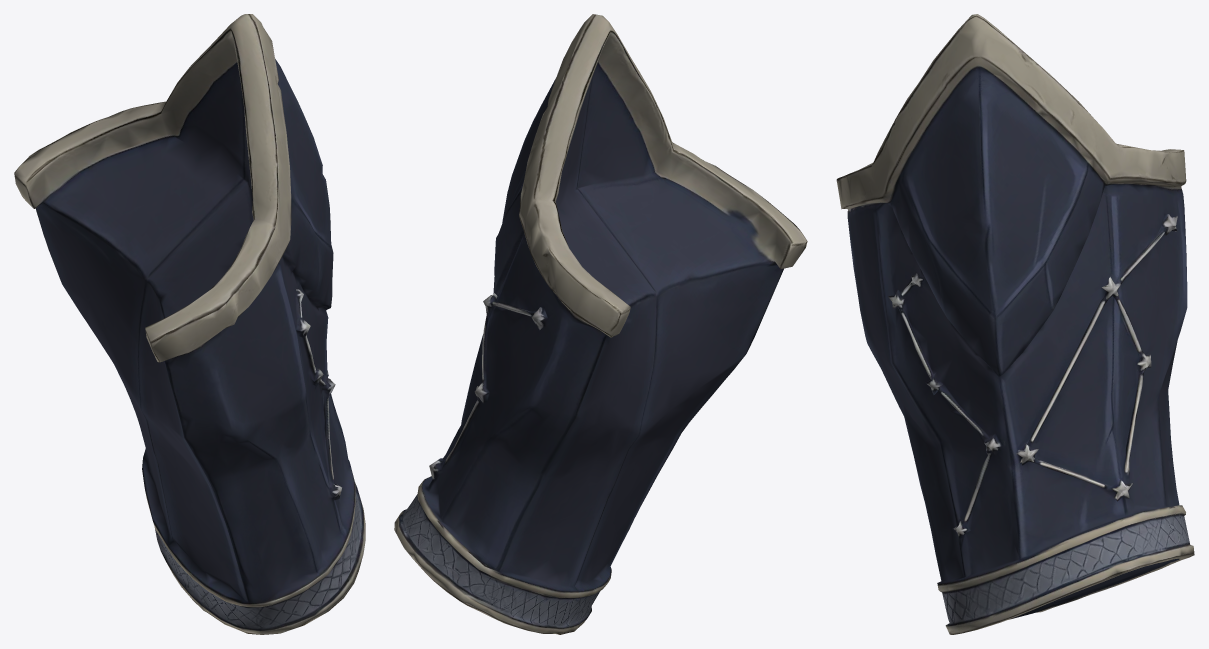
Rendered from boss_arm.glb.
3 views of the same model, side by side, from view 1: azimuth 30°, elevation 25°; view 2: azimuth 150°, elevation 25°; view 3: azimuth 270°, elevation 25° (orthographic). The views are drawn at different scales.
Parts seen in each view (by area): view 1: tripo_node_34c24862-8842-4cca-bba8-d670de9feeee; view 2: tripo_node_34c24862-8842-4cca-bba8-d670de9feeee; view 3: tripo_node_34c24862-8842-4cca-bba8-d670de9feeee.
Boxes of the visible parts, x1,y1,x2,y2 form: tripo_node_34c24862-8842-4cca-bba8-d670de9feeee: (14, 14, 365, 634); tripo_node_34c24862-8842-4cca-bba8-d670de9feeee: (394, 14, 807, 634); tripo_node_34c24862-8842-4cca-bba8-d670de9feeee: (836, 14, 1194, 634).
Size of the model in its own units: 0.5086 by 1 by 0.534.
1 material, 1 textured.
